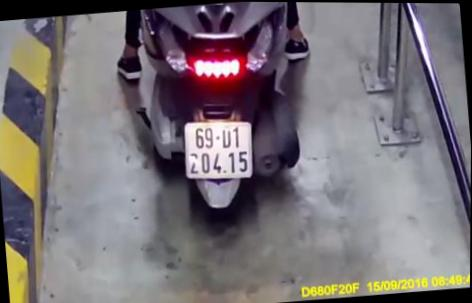LP: (181, 112, 257, 184)
